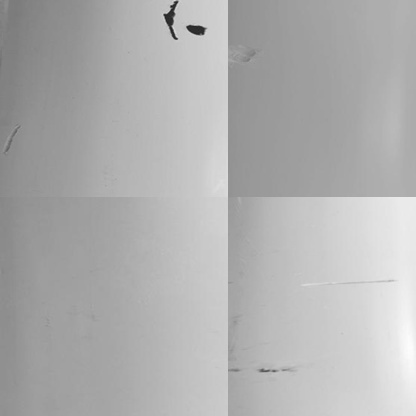kongdong: (159, 1, 179, 46), (183, 19, 207, 38)
sunshang: (298, 276, 401, 289), (230, 37, 256, 66)
